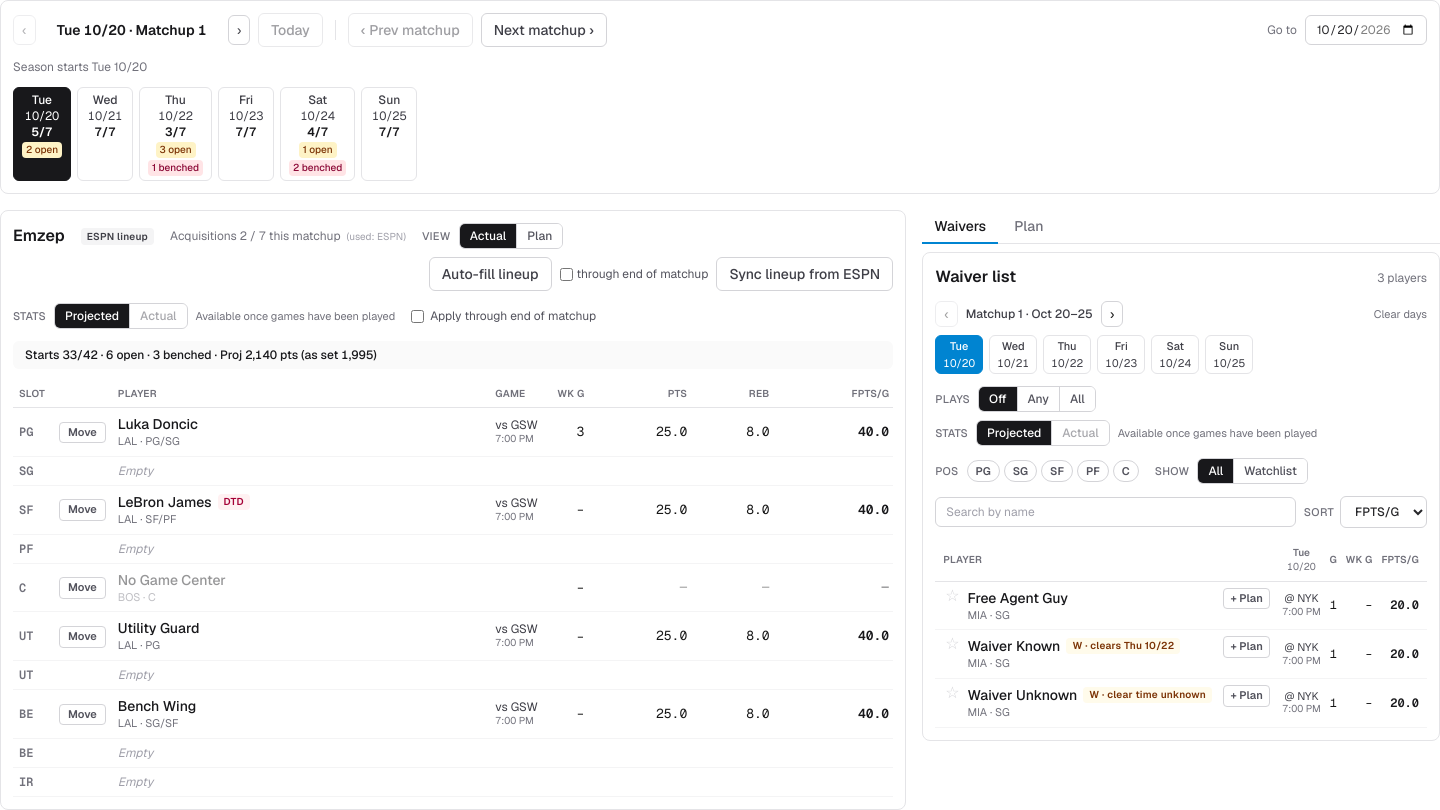
Auto-fill lineup › fills the Actual lineup, says who sits, and re-reads the day
Expected: the button "Luka Doncic" is shown, [118,414,198,434]
Expected: the button "Free Agent Guy" is shown, [968,588,1068,608]
Click the button "Auto-fill lineup".
click(490, 274)  # box [429,257,552,291]
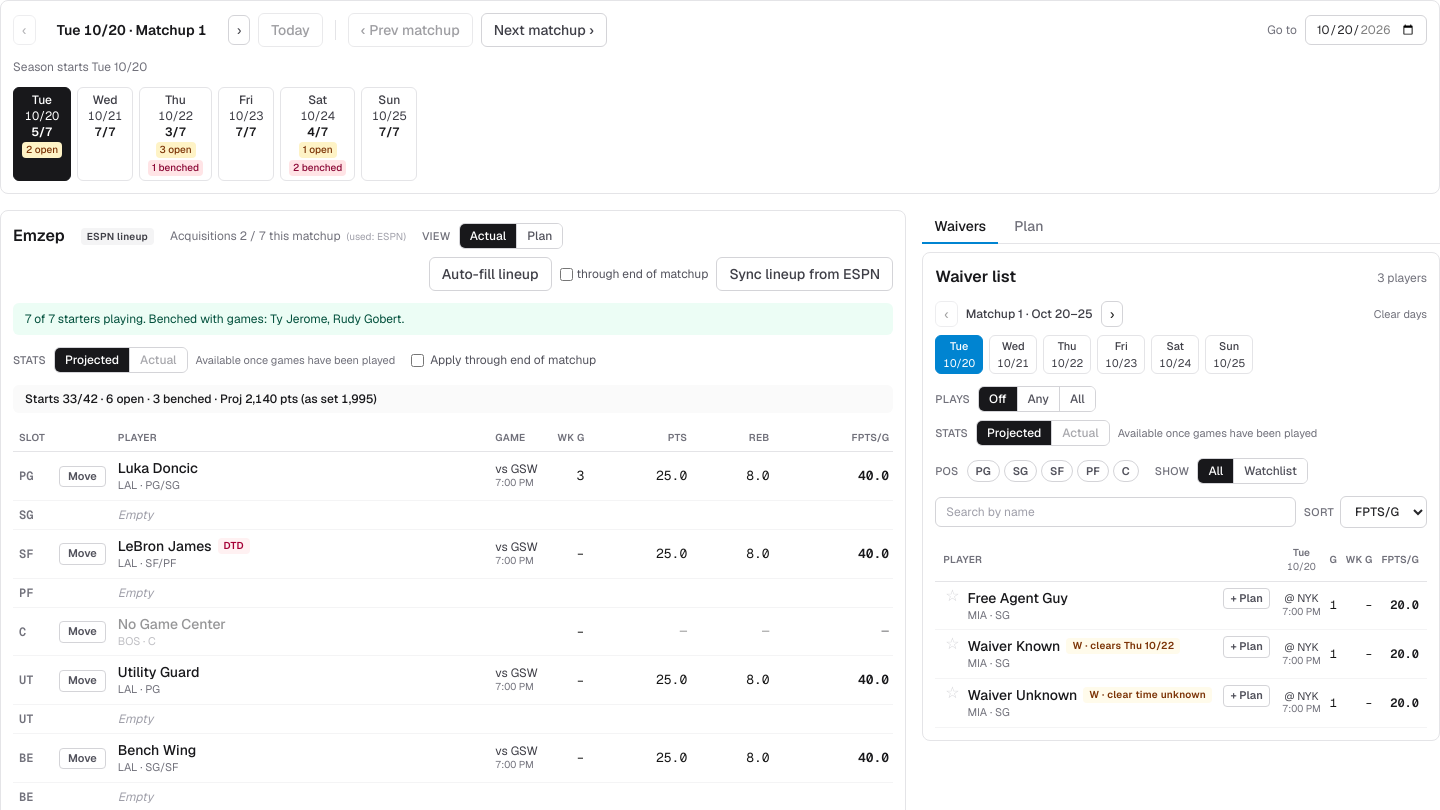
Result: the text "7 of 7 starters playing. Benched with games: Ty Jerome, Rudy Gobert." is shown at [13,303,893,335]
